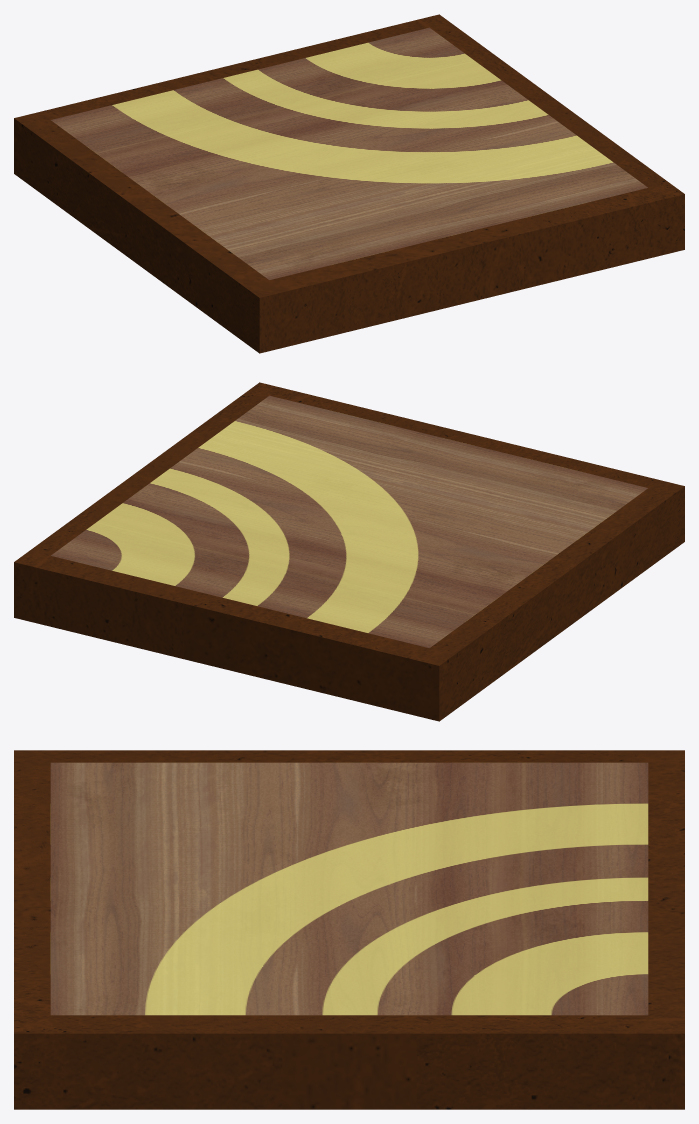
File: wood_floor_curve.glb
The picture shows the model from 3 angles, top to bottom: view 1: azimuth 30°, elevation 25°; view 2: azimuth 150°, elevation 25°; view 3: azimuth 270°, elevation 25°; orthographic projection. The views are drawn at different scales.
Visible parts, largest first — view 1: Brown_DarkWood, Concrete_WoodBrown, Base_TB1_BrownDarkWood; view 2: Brown_DarkWood, Concrete_WoodBrown, Base_TB1_BrownDarkWood; view 3: Brown_DarkWood, Concrete_WoodBrown, Base_TB1_BrownDarkWood.
Boxes of the visible parts, bbox=[...] form: Brown_DarkWood: bbox=[51, 27, 647, 279]; Concrete_WoodBrown: bbox=[14, 14, 684, 353]; Base_TB1_BrownDarkWood: bbox=[18, 45, 611, 297]; Brown_DarkWood: bbox=[51, 395, 647, 647]; Concrete_WoodBrown: bbox=[14, 382, 684, 721]; Base_TB1_BrownDarkWood: bbox=[87, 413, 684, 721]; Brown_DarkWood: bbox=[50, 762, 648, 1015]; Concrete_WoodBrown: bbox=[14, 750, 684, 1109]; Base_TB1_BrownDarkWood: bbox=[14, 750, 684, 1109].
Bounding box in the file's own units: 2 × 0.26 × 2.
3 materials, 3 textured.
